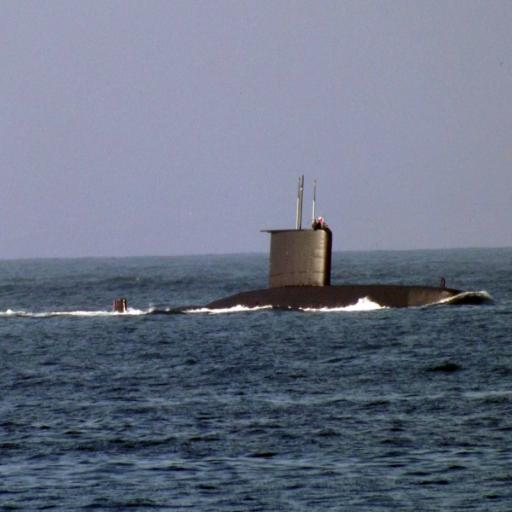submarine: (114, 168, 494, 312)
